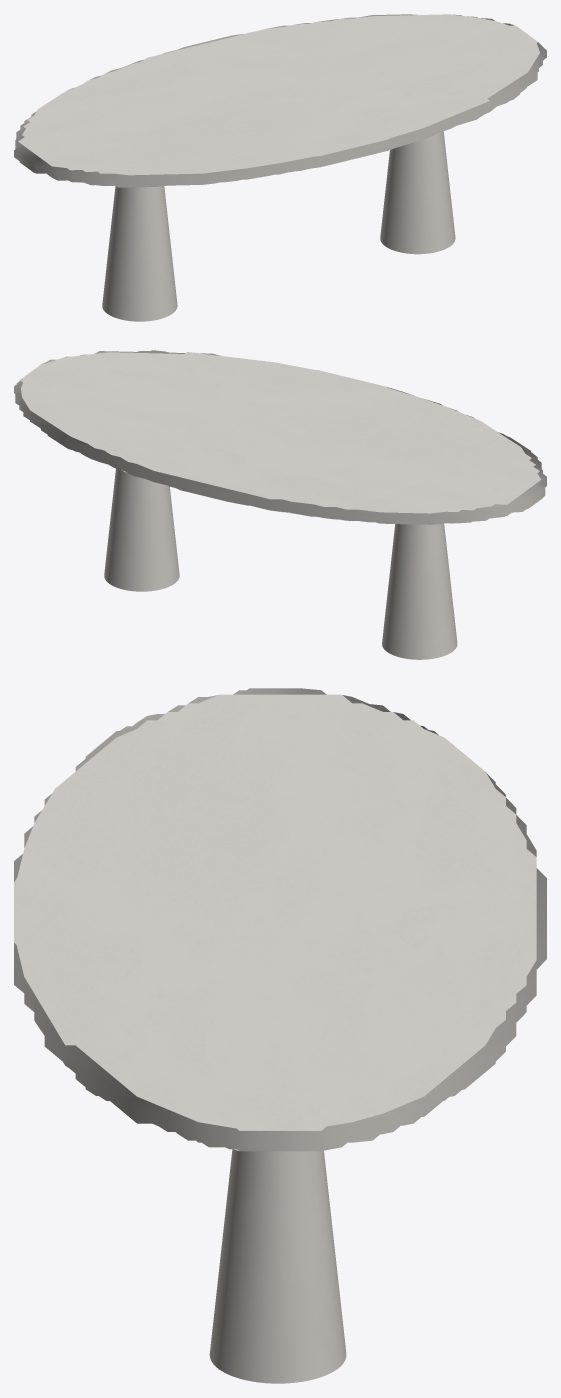
The model's file is pearlwhite_ellips_round_pebble.glb.
3 renders of one model, top to bottom at view 1: azimuth 30°, elevation 25°; view 2: azimuth 150°, elevation 25°; view 3: azimuth 270°, elevation 25°, orthographic. The views are drawn at different scales.
Parts seen in each view (by area): view 1: round_ellips, pebble; view 2: round_ellips, pebble; view 3: round_ellips, pebble.
Boxes of the visible parts, bbox=[...] form: round_ellips: bbox=[14, 14, 546, 187]; pebble: bbox=[102, 131, 455, 321]; round_ellips: bbox=[14, 350, 546, 524]; pebble: bbox=[104, 468, 457, 659]; round_ellips: bbox=[14, 688, 546, 1151]; pebble: bbox=[209, 1149, 346, 1383].
Bounding box in the file's own units: 7.43 × 2.51 × 3.77.
1 material, 1 textured.
